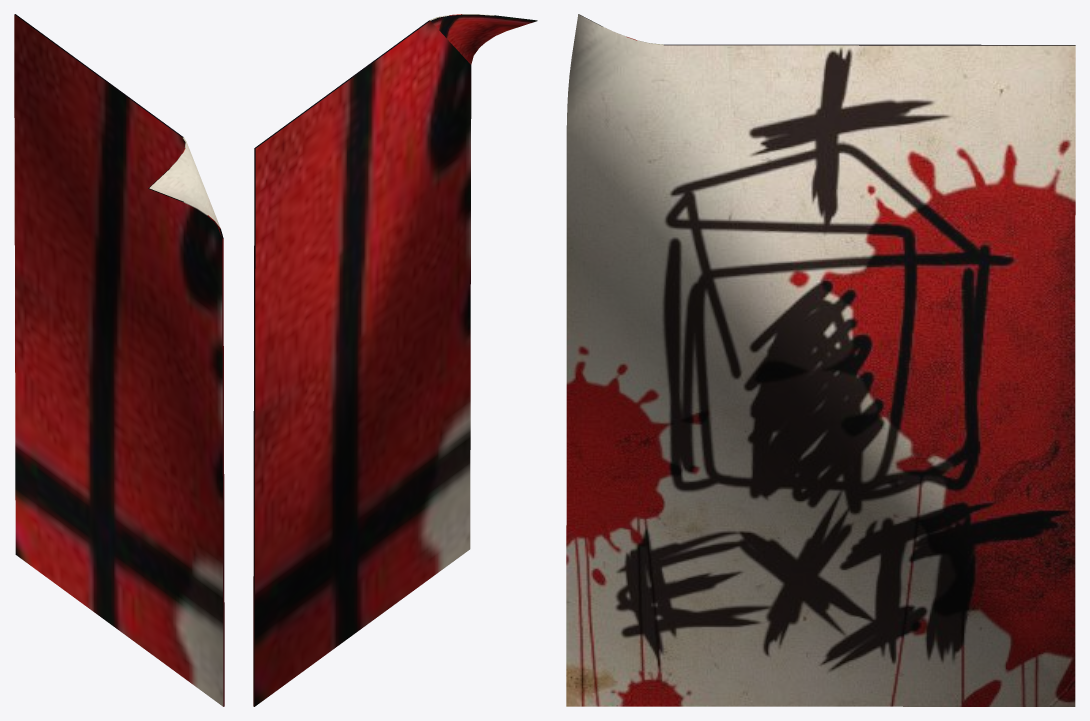
File: NotaChurch2.fbx
3 views of the same model, side by side, from view 1: azimuth 30°, elevation 25°; view 2: azimuth 150°, elevation 25°; view 3: azimuth 270°, elevation 25° (orthographic). The views are drawn at different scales.
Parts seen in each view (by area): view 1: Plane; view 2: Plane; view 3: Plane.
Boxes of the visible parts, left/top/right/bottom form: Plane: left=14, top=14, right=224, bottom=706; Plane: left=253, top=14, right=537, bottom=706; Plane: left=566, top=14, right=1075, bottom=706.
Bounding box in the file's own units: 4.56 × 32.72 × 22.85.
